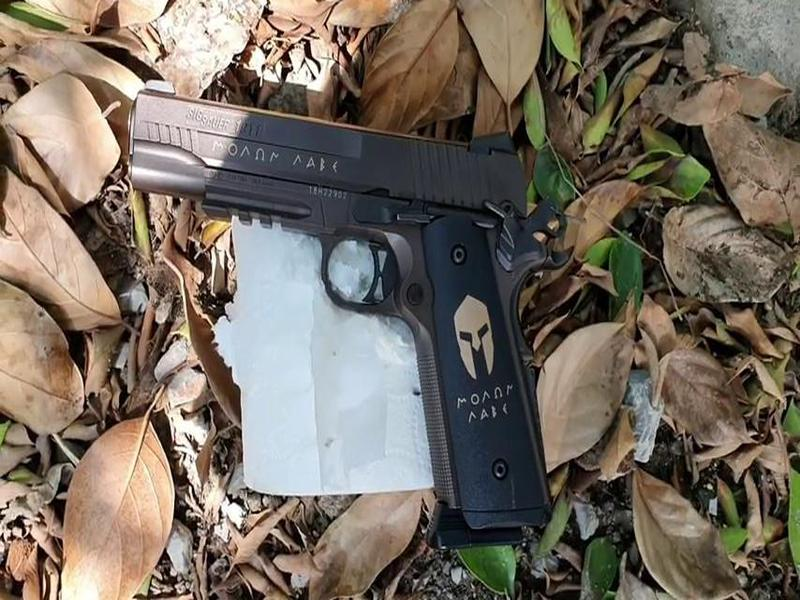Pistola: (126, 54, 569, 544)
